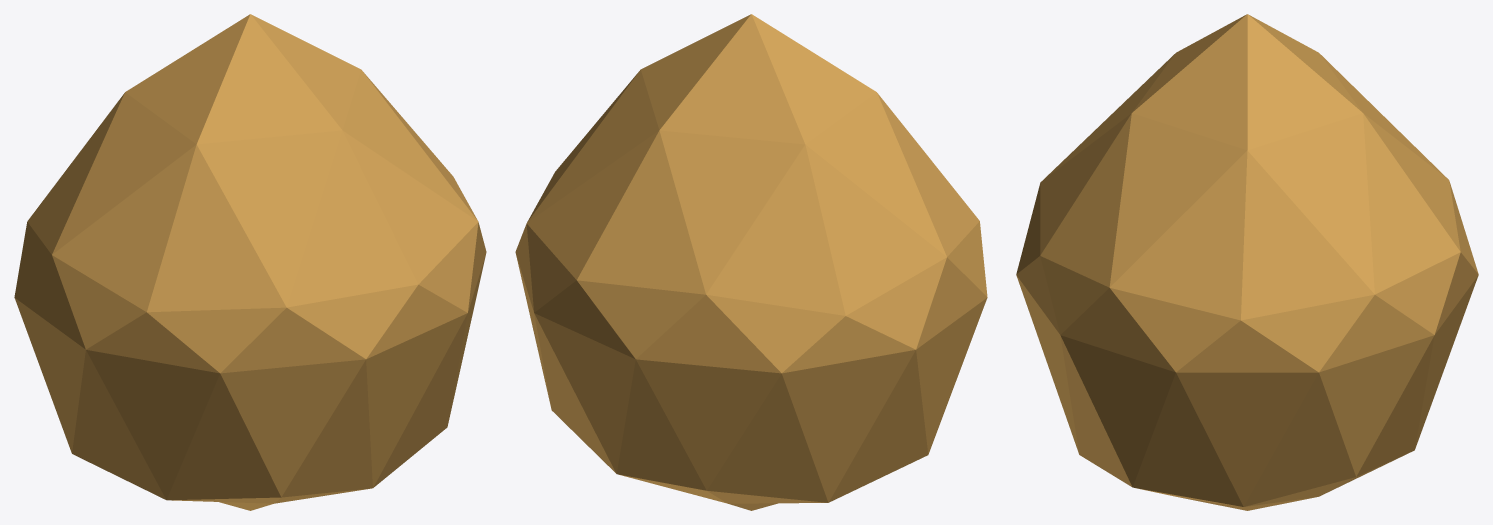
The model's file is cebollita.fbx.
3 views of the same model, side by side, from view 1: azimuth 30°, elevation 25°; view 2: azimuth 150°, elevation 25°; view 3: azimuth 270°, elevation 25° (orthographic).
Parts seen in each view (by area): view 1: Icosphere; view 2: Icosphere; view 3: Icosphere.
Boxes of the visible parts, bbox=[...] form: Icosphere: bbox=[14, 14, 486, 510]; Icosphere: bbox=[515, 14, 987, 510]; Icosphere: bbox=[1016, 14, 1478, 510].
Size of the model in its own units: 41 by 48.6 by 41.
